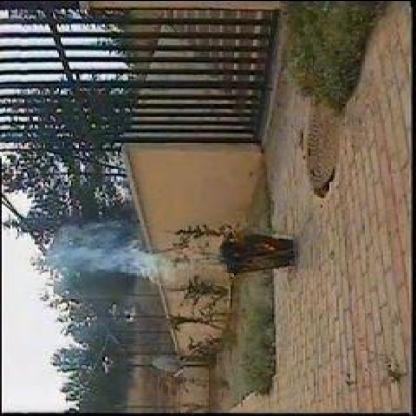-: (50, 230, 168, 280)
